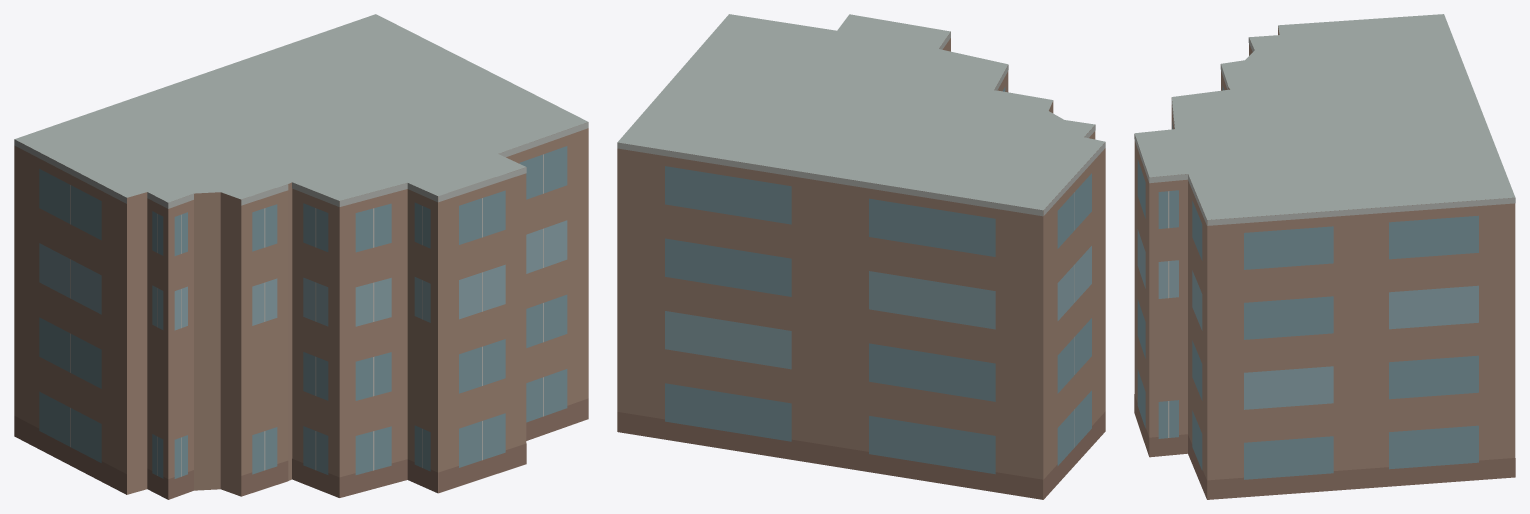
Rendered from survey-upis-32721981.glb.
The picture shows the model from 3 angles, left to right: view 1: azimuth 30°, elevation 25°; view 2: azimuth 150°, elevation 25°; view 3: azimuth 270°, elevation 25°; orthographic projection. The views are drawn at different scales.
Visible parts, largest first — view 1: survey-upis-32721981.tmp; view 2: survey-upis-32721981.tmp; view 3: survey-upis-32721981.tmp.
Part boxes in pixels (box(x1,y1,x2,y2)): survey-upis-32721981.tmp: box(14, 14, 588, 499); survey-upis-32721981.tmp: box(617, 14, 1105, 499); survey-upis-32721981.tmp: box(1134, 14, 1515, 499).
Bounding box in the file's own units: 18.49 × 11.7 × 14.45.
